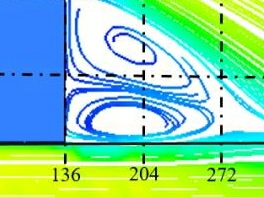vortox: (68, 25, 203, 89), (67, 87, 214, 141)
